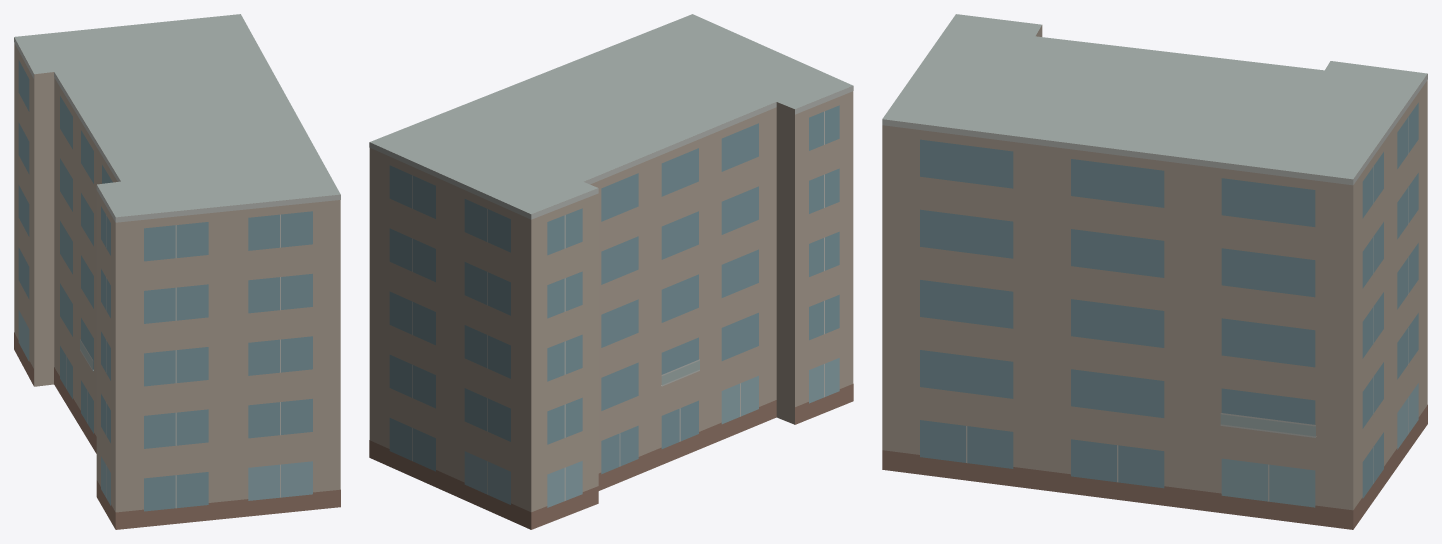
The model's file is survey-upis-32880925.glb.
3 views of the same model, side by side, from view 1: azimuth 30°, elevation 25°; view 2: azimuth 150°, elevation 25°; view 3: azimuth 270°, elevation 25° (orthographic). The views are drawn at different scales.
Visible parts, largest first — view 1: survey-upis-32880925.tmp; view 2: survey-upis-32880925.tmp; view 3: survey-upis-32880925.tmp.
Boxes of the visible parts, box(x1,y1,x2,y2) form: survey-upis-32880925.tmp: box(14, 14, 340, 529); survey-upis-32880925.tmp: box(369, 14, 853, 529); survey-upis-32880925.tmp: box(882, 14, 1427, 529).
Size of the model in its own units: 14.48 by 14.3 by 20.18.
